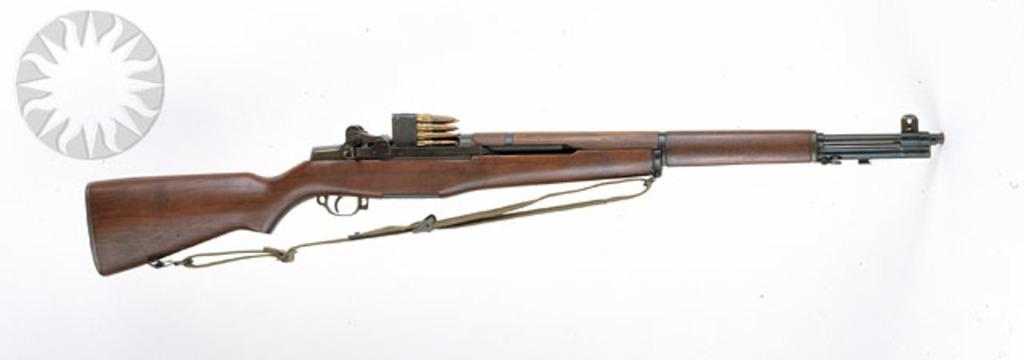Rifle: (86, 112, 944, 274)
